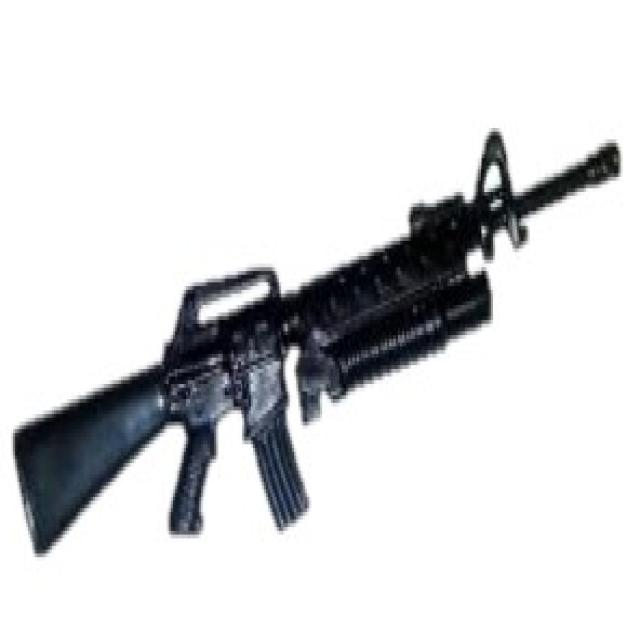rifle: (11, 115, 627, 572)
